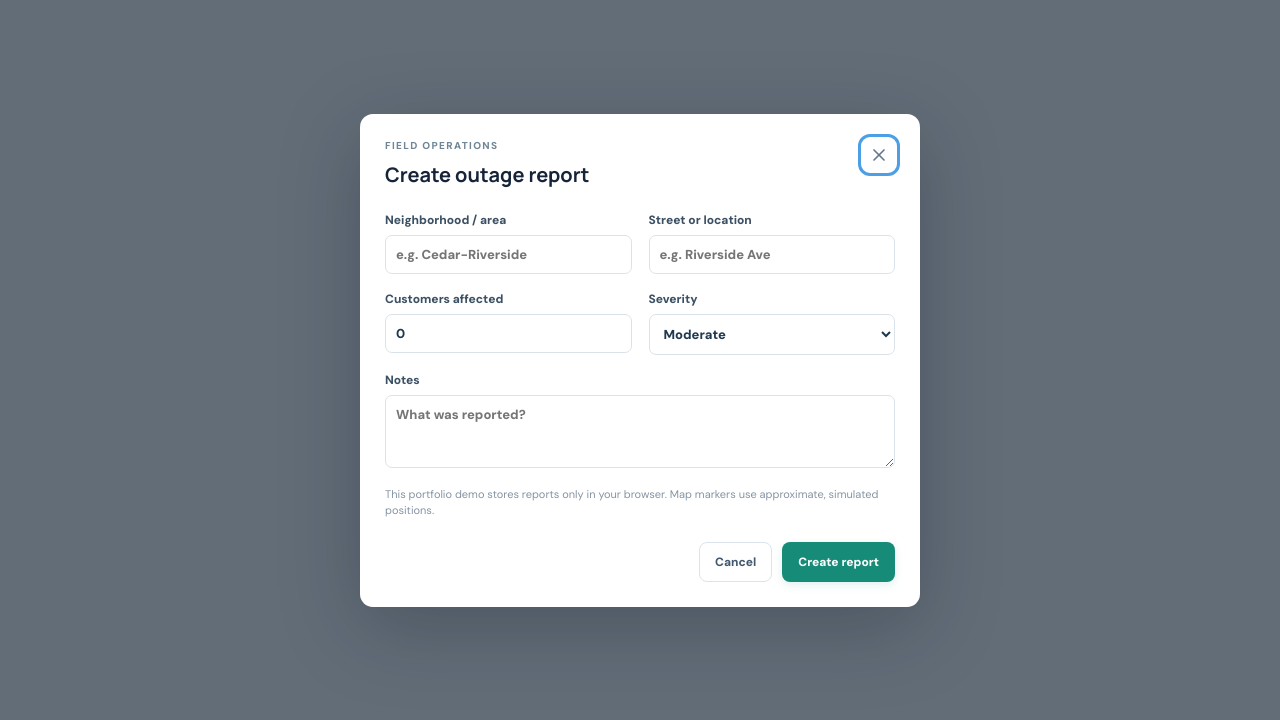
Test: New outage form › rejects invalid input and announces the error
Click the button "Create report" at coordinates (839, 562), box [782,542,895,582]
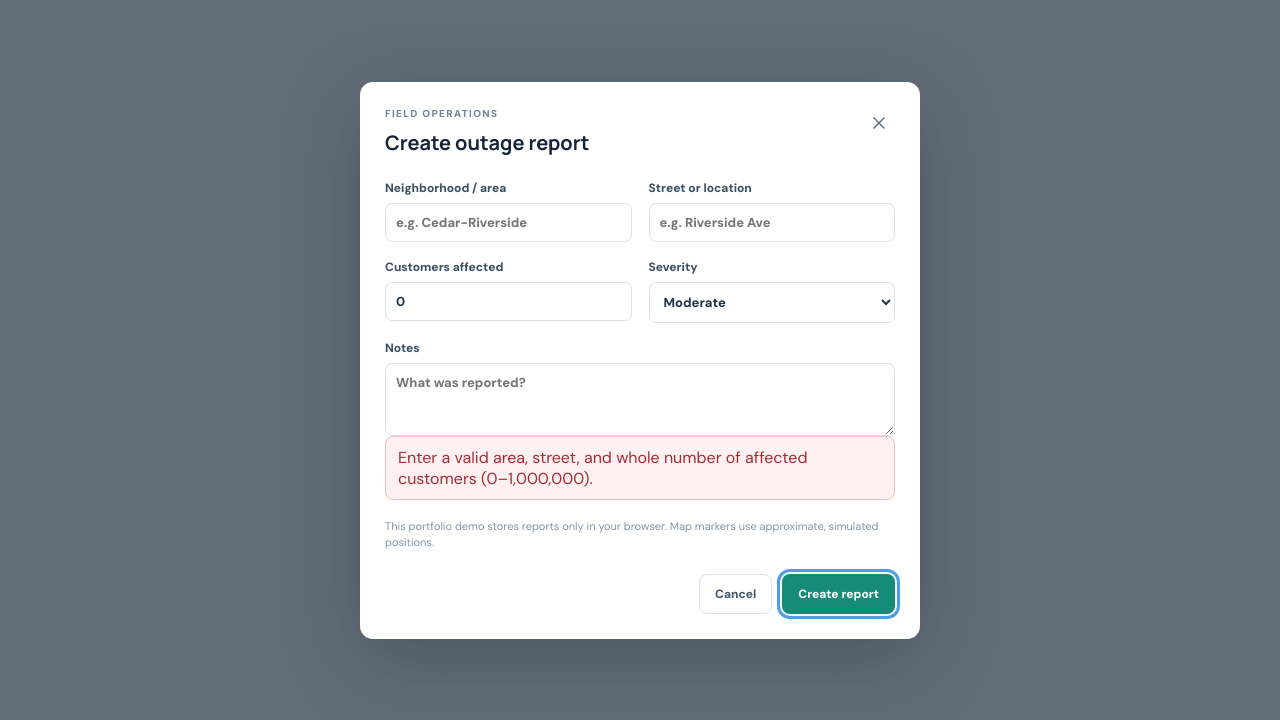
Now the message shows "Enter a valid area", box [398,446,808,488]
